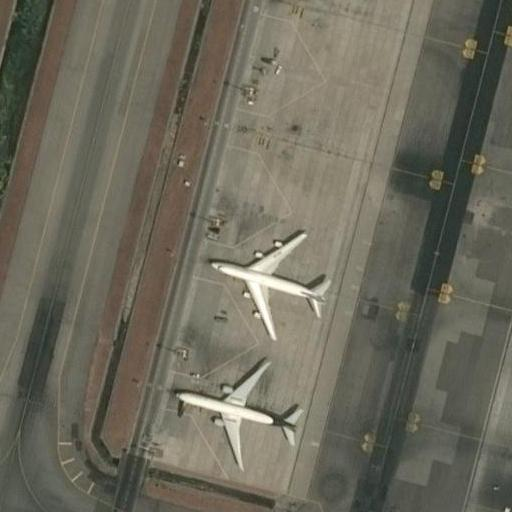Aircraft: (164, 351, 305, 460), (205, 228, 328, 333)
